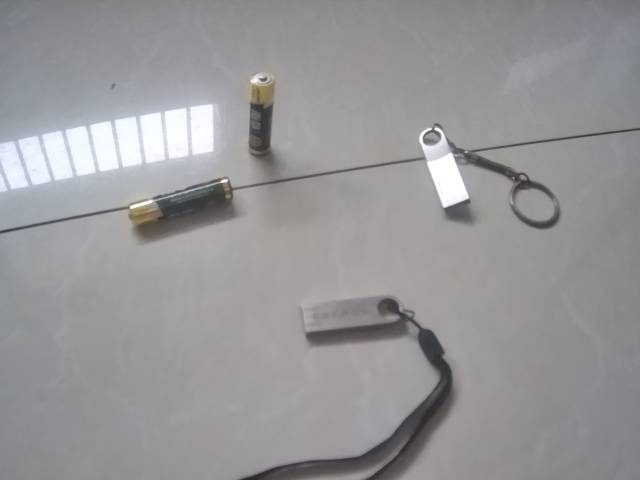U-disk: (285, 295, 464, 461), (413, 116, 567, 235)
battery: (125, 173, 242, 232), (242, 67, 286, 158)
